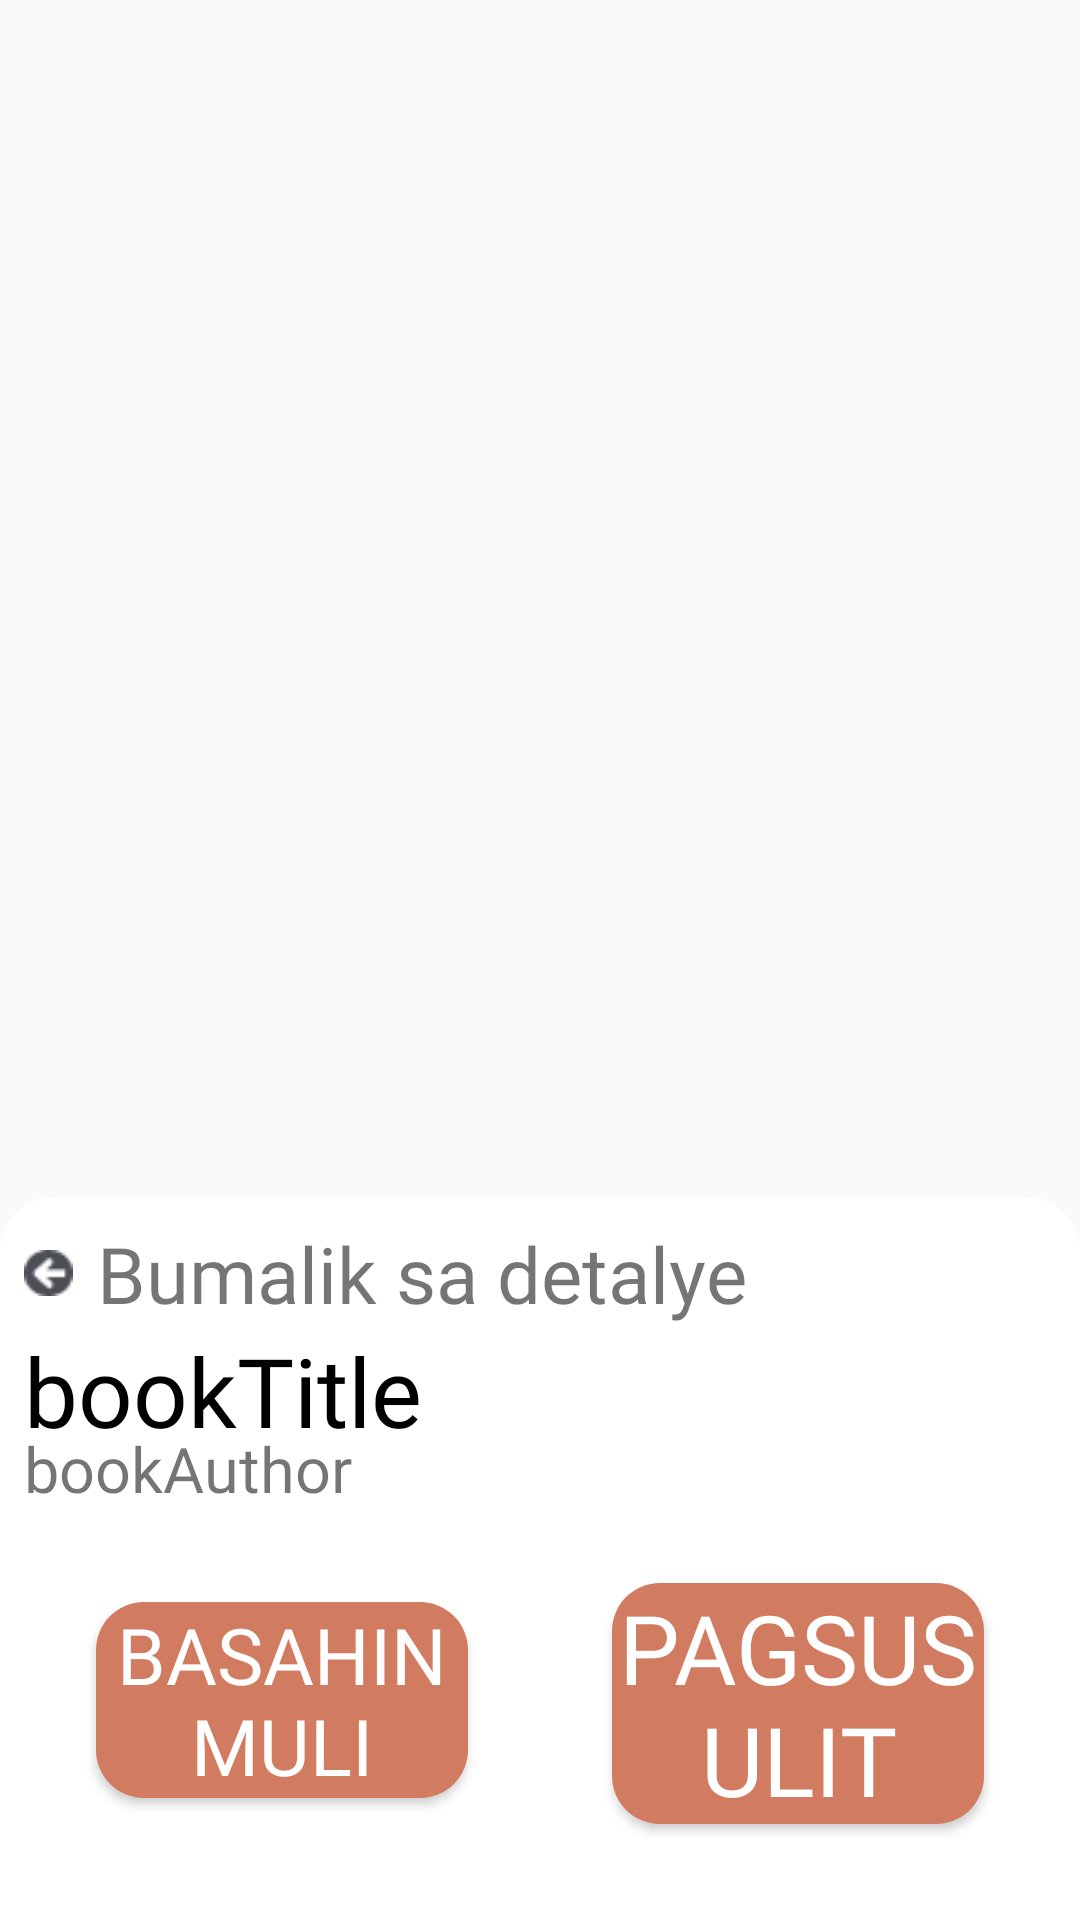

Point at icon controls on the screen. Image size 1080×1920, points as (x=x, y=y).
back: (x=48, y=1273)
